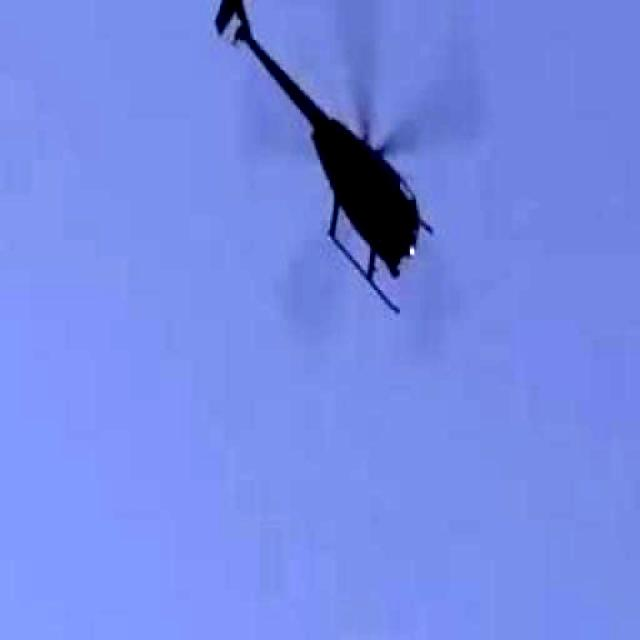drone: (180, 0, 472, 322)
